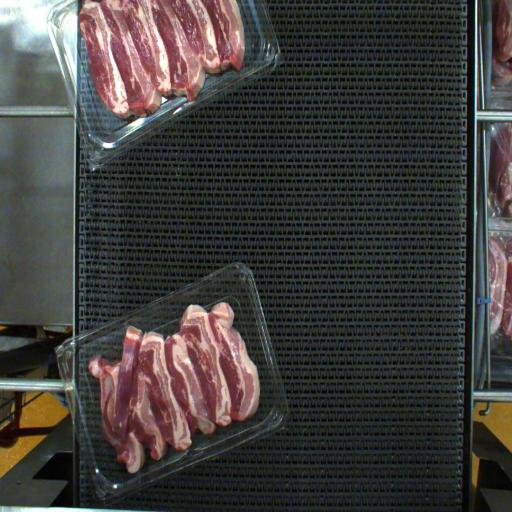twisted-meat: (110, 328, 141, 428)
